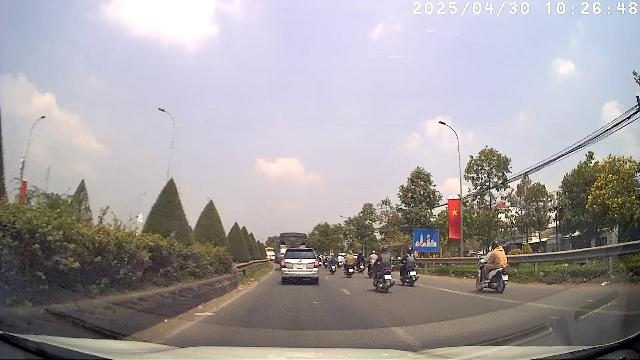421-ket-thuc-khu-dong-dan-cu: (414, 229, 438, 252)
